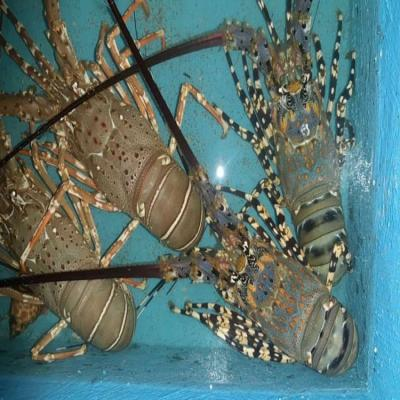lobster: (76, 79, 201, 247), (229, 236, 352, 369), (264, 48, 349, 220)
